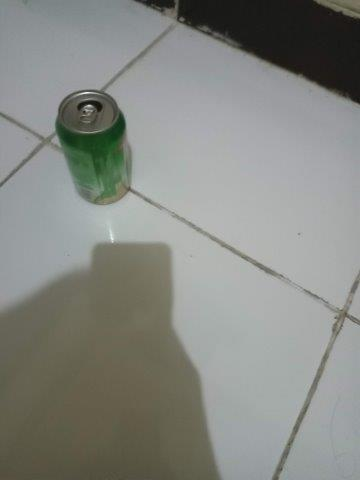kaleng: (55, 90, 130, 205)
